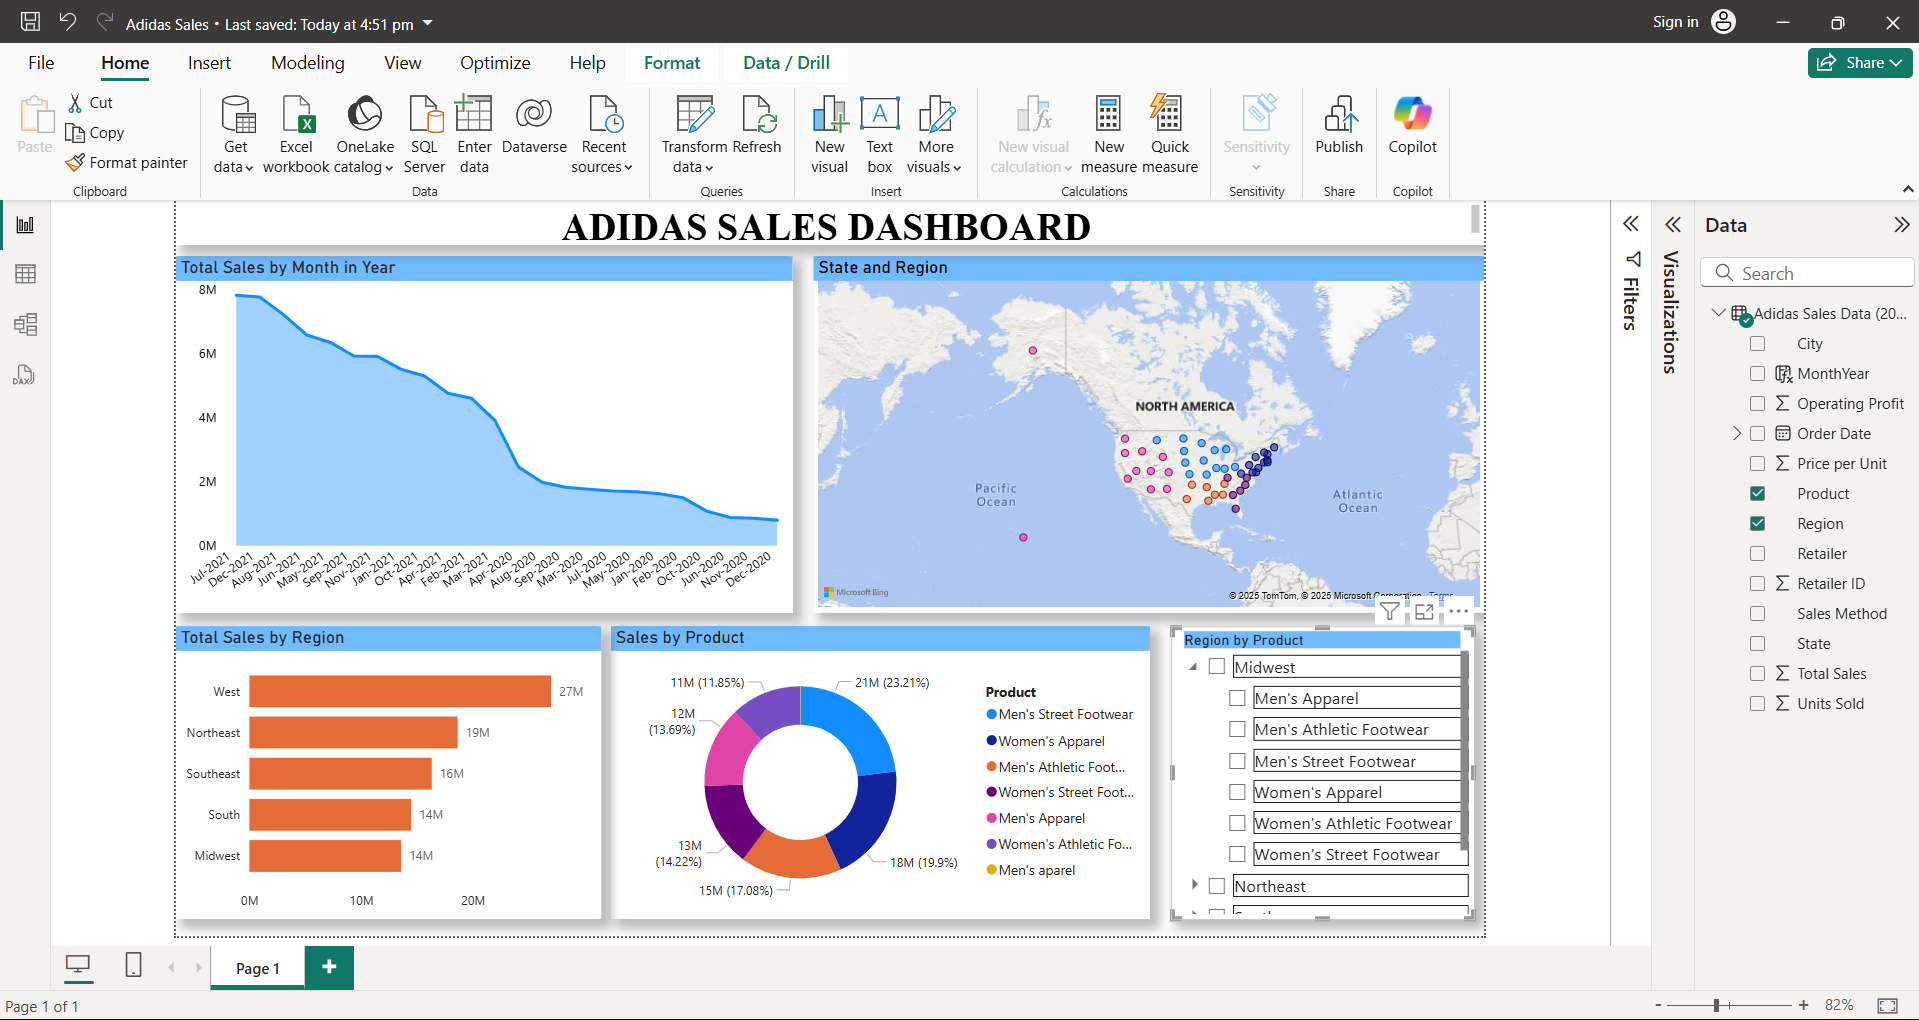

What the dashboard file says about the page in this screenshot:
{"tool":"powerbi","page":{"name":"Page 1","canvas":[1280,720],"ordinal":0},"visuals":[{"type":"donutChart","title":"Sales by Product","fields":{"Y":["Sum(Adidas Sales Data (2020-2021).Total Sales)"],"Category":["Adidas Sales Data (2020-2021).Product"]},"box":[425.8,417.4,527,286.7],"z":0},{"type":"map","fields":{"Category":["Adidas Sales Data (2020-2021).State"],"Series":["Adidas Sales Data (2020-2021).Region"]},"box":[623.6,55,656.7,348.5],"z":1000},{"type":"lineChart","title":"Total Sales by Month in Year","fields":{"Category":["Adidas Sales Data (2020-2021).MonthYear"],"Y":["Sum(Adidas Sales Data (2020-2021).Total Sales)"]},"box":[0,55,602.9,348.5],"z":2000},{"type":"slicer","fields":{"Values":["Adidas Sales Data (2020-2021).Region","Adidas Sales Data (2020-2021).Product"]},"box":[973.9,417.4,296.5,286.7],"z":3000},{"type":"barChart","title":"Total Sales by Region","fields":{"Y":["Sum(Adidas Sales Data (2020-2021).Total Sales)"],"Category":["Adidas Sales Data (2020-2021).Region"]},"box":[0,417.4,416,286.7],"z":4000},{"type":"textbox","box":[0,0,1280.3,44],"z":4001}]}

Visuals, with their boxes on the page's 1280x720 design canvas (x1, y1, x2, y2). These are canvas units, not pixel positions in the 1919x1020 screenshot, which may show the page scaled, cropped or inside an application window:
"Sales by Product" donutChart: rect(426, 417, 953, 704)
map - Adidas Sales Data (2020-2021).State x Adidas Sales Data (2020-2021).Region: rect(624, 55, 1280, 404)
"Total Sales by Month in Year" lineChart: rect(0, 55, 603, 404)
slicer - Adidas Sales Data (2020-2021).Region x Adidas Sales Data (2020-2021).Product: rect(974, 417, 1270, 704)
"Total Sales by Region" barChart: rect(0, 417, 416, 704)
textbox: rect(0, 0, 1280, 44)
